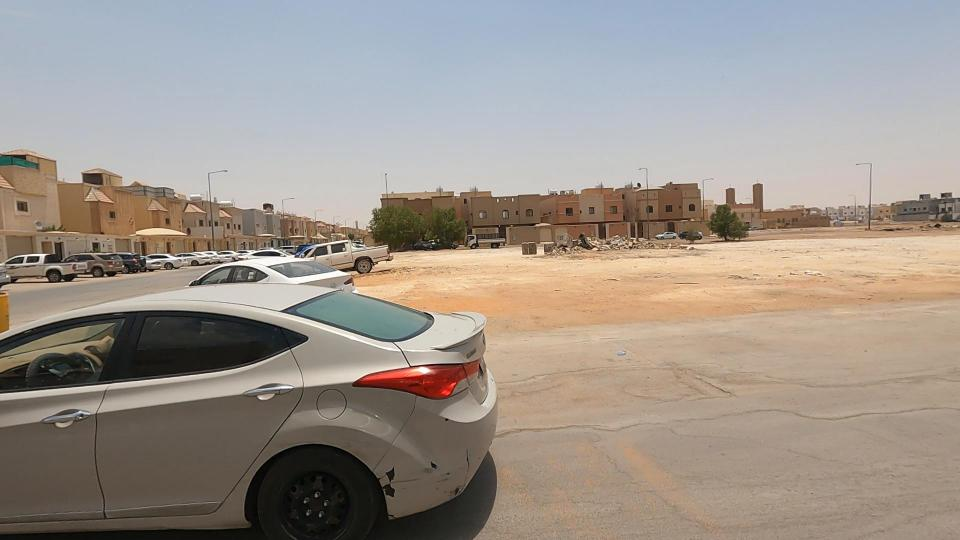GARBAGE: (557, 215, 618, 263), (585, 329, 653, 372), (597, 222, 633, 256)
